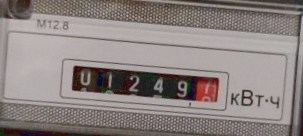0: (78, 66, 93, 87)
1: (102, 69, 115, 89)
2: (126, 72, 142, 94)
4: (151, 74, 165, 95)
7: (199, 75, 214, 96)
9: (174, 77, 189, 100)
screen: (50, 50, 230, 117)
